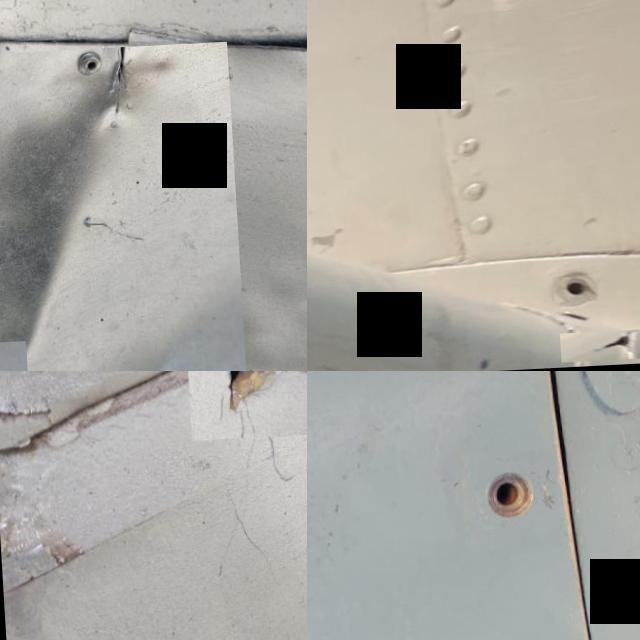Crack: (182, 371, 307, 442), (552, 332, 640, 365)
Dent: (0, 47, 243, 371)
Missing_Fastener: (456, 454, 556, 554), (546, 278, 590, 306)
